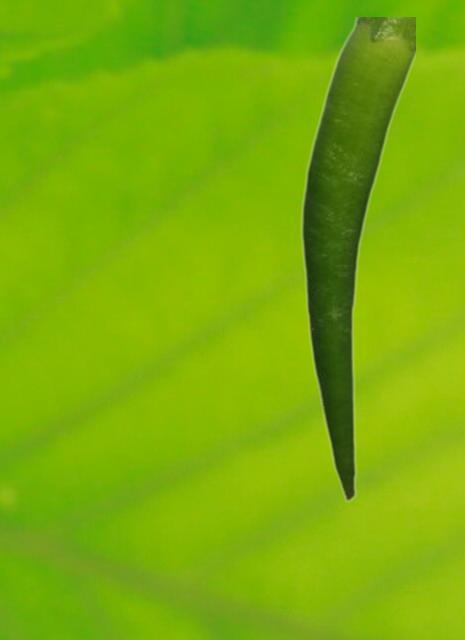green_chili: (300, 17, 414, 501)
